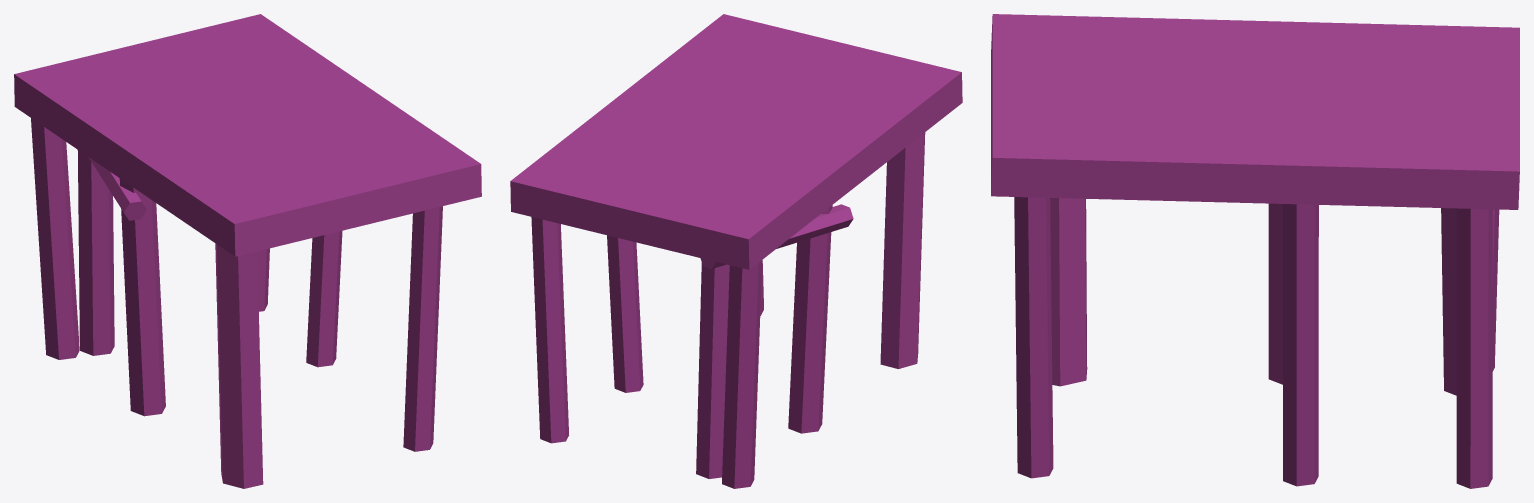
The model's file is SM_Bld_Part_Platform_01_Collision.fbx.
3 renders of one model, left to right at view 1: azimuth 30°, elevation 25°; view 2: azimuth 150°, elevation 25°; view 3: azimuth 270°, elevation 25°, orthographic. The views are drawn at different scales.
Visible parts, largest first — view 1: SM_Bld_Part_Platform_01_Collision; view 2: SM_Bld_Part_Platform_01_Collision; view 3: SM_Bld_Part_Platform_01_Collision.
Boxes of the visible parts, x1,y1,x2,y2 form: SM_Bld_Part_Platform_01_Collision: (14, 14, 481, 488); SM_Bld_Part_Platform_01_Collision: (510, 14, 962, 488); SM_Bld_Part_Platform_01_Collision: (991, 14, 1519, 488).
Size of the model in its own units: 310 by 342 by 481.
